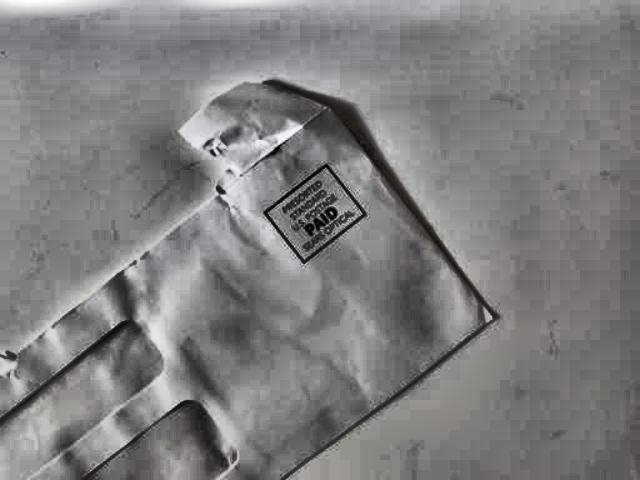Paper: (0, 79, 509, 480)
